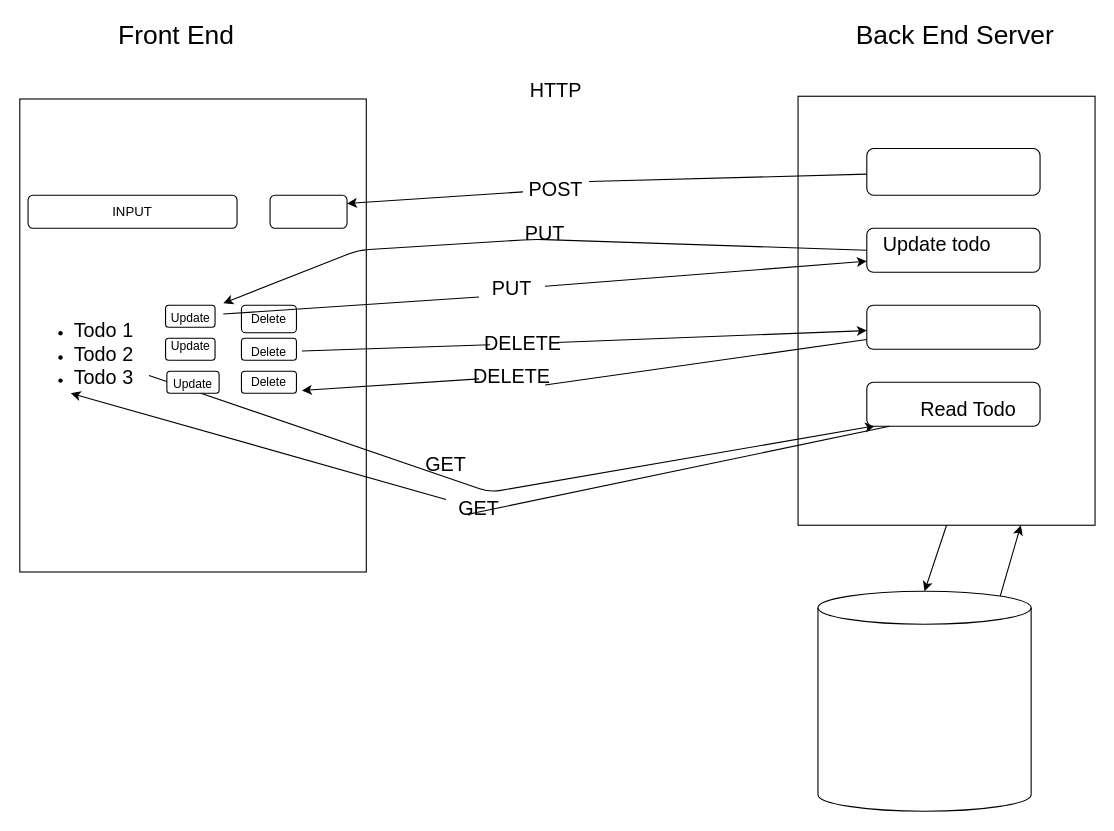
This 1114x831 diagram has some shape labels left out. The shapes that lost their labels are listed below. From the top down, each one's centre as x and y in pixels, then its label:
At (x=953, y=171): "Create Todo".
At (x=308, y=211): "ADD".
At (x=953, y=326): "Delete Todo".
At (x=924, y=700): "Data Base".
